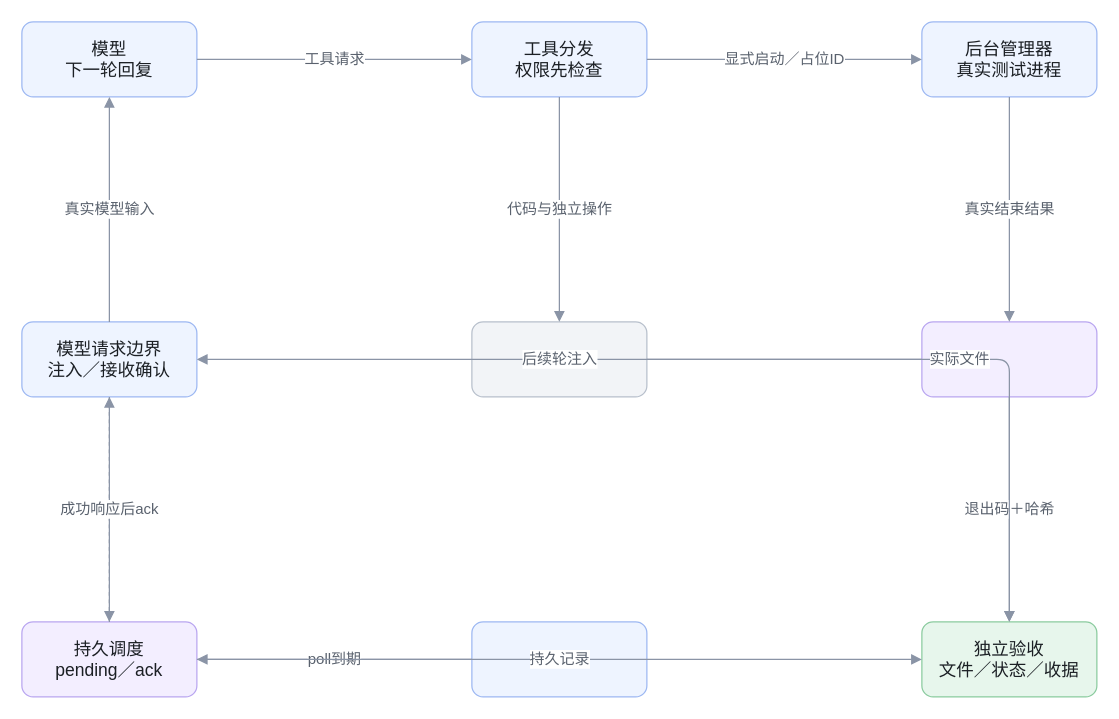
This 1119x719 diagram has some shape labels left out. Here are the shapes that lost their labels. From the top down, the box of each, then its label:
(471, 321, 647, 397): 工作目录 修改＋独立读
(921, 321, 1097, 397): 完成通知 只收集一次
(471, 621, 647, 697): 受控时钟 09:00→09:01
